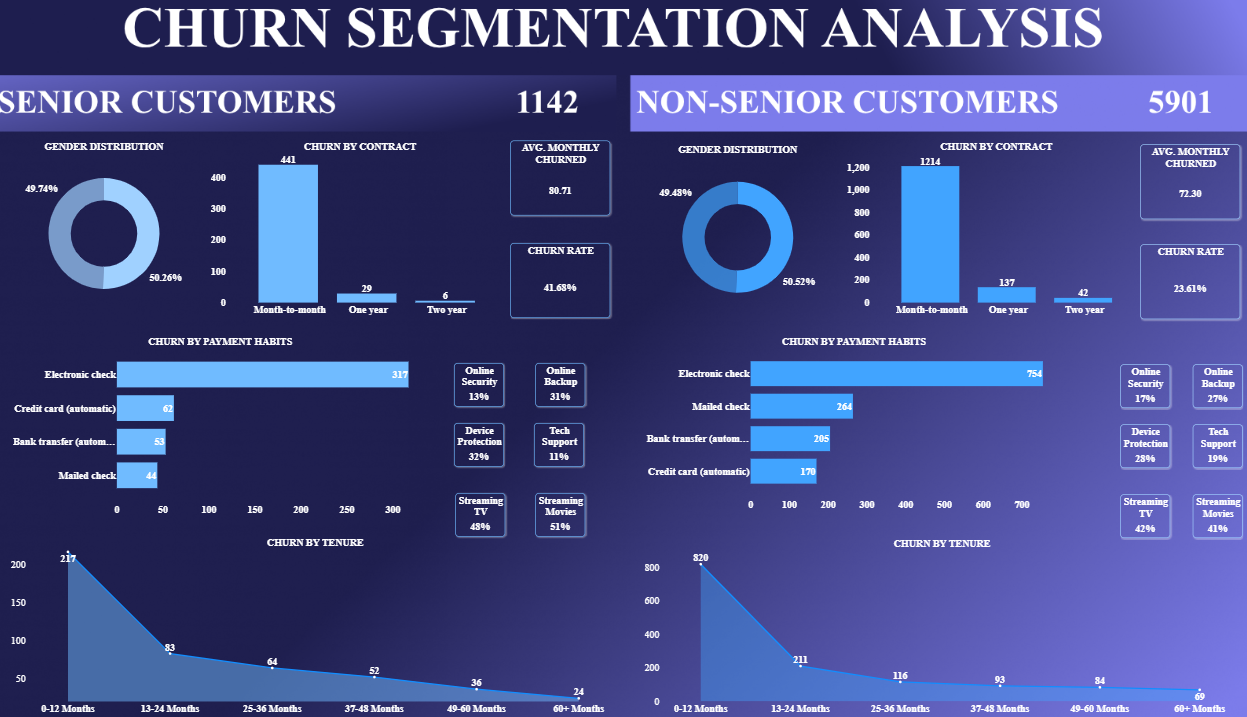

Layout of this report page (visuals, bound fields, positions):
{"tool":"powerbi","page":{"name":"SENIOR VS NON - SENIOR CUSTOMERS","canvas":[9999,5800],"ordinal":1},"visuals":[{"type":"card","title":"CHURN RATE","fields":{"Values":["Sheet1.Non Senior Churn Rate"]},"box":[9132,1968,800,600],"z":0},{"type":"columnChart","title":"CHURN BY CONTRACT","fields":{"Category":["Sheet1.Contract"],"Y":["Count(Sheet1.CustomerID)"]},"box":[1690,1140,2400,1400],"z":1000},{"type":"columnChart","title":"CHURN BY CONTRACT","fields":{"Category":["Sheet1.Contract"],"Y":["Count(Sheet1.CustomerID)"]},"box":[6780,1140,2400,1400],"z":2000},{"type":"card","title":"AVG. MONTHLY CHURNED","fields":{"Values":["Avg(Sheet1.Monthly Charges)"]},"box":[4090,1140,800,600],"z":3000},{"type":"card","title":"AVG. MONTHLY CHURNED","fields":{"Values":["Avg(Sheet1.Monthly Charges)"]},"box":[9130,1170,800,600],"z":4000},{"type":"card","title":"Online Security","fields":{"Values":["Sheet1.Churned % Online Security"]},"box":[3638,2924,400,350],"z":5000},{"type":"card","title":"Online Backup","fields":{"Values":["Sheet1.Churned % Online Backup"]},"box":[4288,2924,400,350],"z":6000},{"type":"card","title":"Device Protection","fields":{"Values":["Sheet1.Churned % Device Protection"]},"box":[3638,3404,400,350],"z":7000},{"type":"card","title":"Tech Support","fields":{"Values":["Sheet1.Churned % Tech Support"]},"box":[4278,3404,400,350],"z":8000},{"type":"card","title":"Streaming TV","fields":{"Values":["Sheet1.Churned % Streaming TV"]},"box":[3648,3964,400,350],"z":9000},{"type":"card","title":"Streaming Movies","fields":{"Values":["Sheet1.Churned % Streaming Movies"]},"box":[4288,3964,400,350],"z":10000},{"type":"card","title":"Online Security","fields":{"Values":["Sheet1.Churned % Online Security"]},"box":[8968,2928,400,350],"z":11000},{"type":"card","title":"Online Backup","fields":{"Values":["Sheet1.Churned % Online Backup"]},"box":[9548,2928,400,350],"z":12000},{"type":"card","title":"Device Protection","fields":{"Values":["Sheet1.Churned % Device Protection"]},"box":[8968,3408,400,350],"z":13000},{"type":"card","title":"Tech Support","fields":{"Values":["Sheet1.Churned % Tech Support"]},"box":[9548,3408,400,350],"z":14000},{"type":"card","title":"Streaming TV","fields":{"Values":["Sheet1.Churned % Streaming TV"]},"box":[8968,3968,400,350],"z":15000},{"type":"card","title":"Streaming Movies","fields":{"Values":["Sheet1.Churned % Streaming Movies"]},"box":[9548,3968,400,350],"z":16000},{"type":"donutChart","title":"GENDER DISTRIBUTION","fields":{"Y":["Count(Sheet1.CustomerID)"],"Category":["Sheet1.Gender"]},"box":[90,1140,1500,1400],"z":17000},{"type":"donutChart","title":"GENDER DISTRIBUTION","fields":{"Y":["Count(Sheet1.CustomerID)"],"Category":["Sheet1.Gender"]},"box":[5160,1170,1500,1400],"z":18000},{"type":"barChart","title":"CHURN BY PAYMENT HABITS","fields":{"Category":["Sheet1.Payment Method"],"Series":["Sheet1.Churn Label"],"Y":["CountNonNull(Sheet1.CustomerID)"]},"box":[90,2700,3360,1440],"z":21000},{"type":"barChart","title":"CHURN BY PAYMENT HABITS","fields":{"Category":["Sheet1.Payment Method"],"Series":["Sheet1.Churn Label"],"Y":["CountNonNull(Sheet1.CustomerID)"]},"box":[5160,2700,3360,1400],"z":22000},{"type":"card","title":"CHURN RATE","fields":{"Values":["Sheet1.Senior Churn Rate"]},"box":[4090,1960,800,600],"z":23000},{"type":"lineChart","title":"CHURN BY TENURE","fields":{"Y":["Count(Sheet1.CustomerID)"],"Category":["Sheet1.Tenure Group"]},"box":[90,4310,4880,1420],"z":23001},{"type":"lineChart","title":"CHURN BY TENURE","fields":{"Y":["Count(Sheet1.CustomerID)"],"Category":["Sheet1.Tenure Group"]},"box":[5160,4320,4770,1410],"z":23002}]}

Visuals, with their boxes in screenshot pixels (x1, y1, x2, y2), scaled from the page's 9999x5800 canvas onto the 1247x717 screenshot:
"CHURN RATE" card: l=1139, t=243, r=1239, b=317
"CHURN BY CONTRACT" columnChart: l=211, t=141, r=510, b=314
"CHURN BY CONTRACT" columnChart: l=846, t=141, r=1145, b=314
"AVG. MONTHLY CHURNED" card: l=510, t=141, r=610, b=215
"AVG. MONTHLY CHURNED" card: l=1139, t=145, r=1238, b=219
"Online Security" card: l=454, t=361, r=504, b=405
"Online Backup" card: l=535, t=361, r=585, b=405
"Device Protection" card: l=454, t=421, r=504, b=464
"Tech Support" card: l=534, t=421, r=583, b=464
"Streaming TV" card: l=455, t=490, r=505, b=533
"Streaming Movies" card: l=535, t=490, r=585, b=533
"Online Security" card: l=1118, t=362, r=1168, b=405
"Online Backup" card: l=1191, t=362, r=1241, b=405
"Device Protection" card: l=1118, t=421, r=1168, b=465
"Tech Support" card: l=1191, t=421, r=1241, b=465
"Streaming TV" card: l=1118, t=491, r=1168, b=534
"Streaming Movies" card: l=1191, t=491, r=1241, b=534
"GENDER DISTRIBUTION" donutChart: l=11, t=141, r=198, b=314
"GENDER DISTRIBUTION" donutChart: l=644, t=145, r=831, b=318
"CHURN BY PAYMENT HABITS" barChart: l=11, t=334, r=430, b=512
"CHURN BY PAYMENT HABITS" barChart: l=644, t=334, r=1063, b=507
"CHURN RATE" card: l=510, t=242, r=610, b=316
"CHURN BY TENURE" lineChart: l=11, t=533, r=620, b=708
"CHURN BY TENURE" lineChart: l=644, t=534, r=1238, b=708
